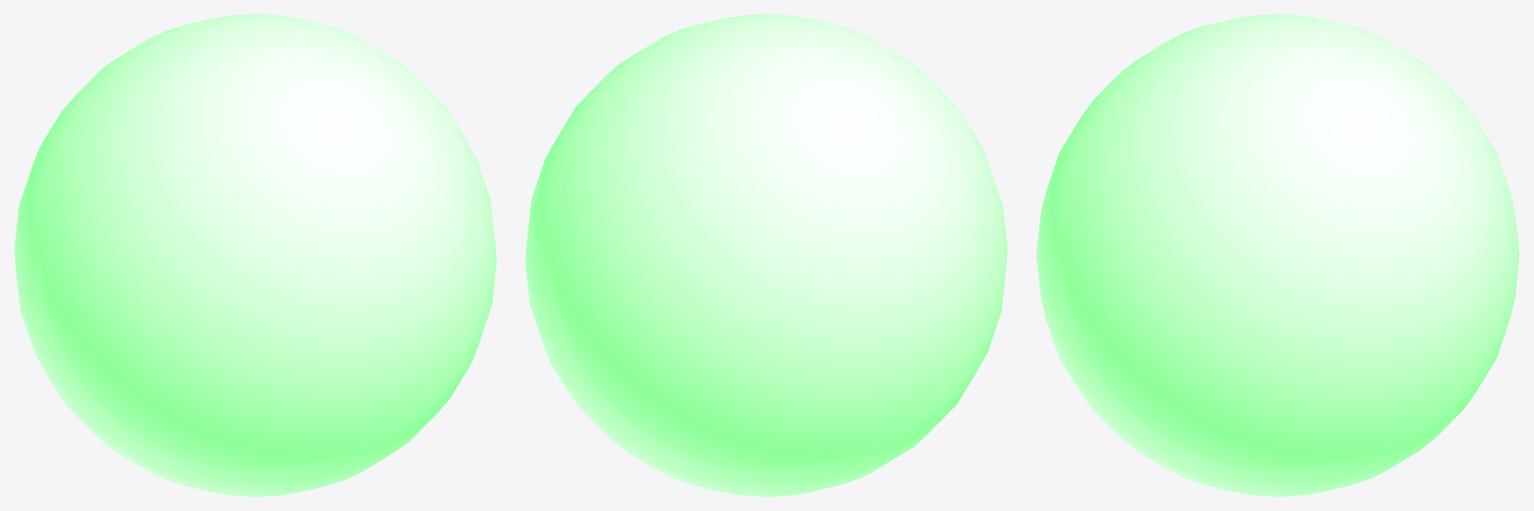
Rendered from orb-nature.glb.
The picture shows the model from 3 angles, left to right: view 1: azimuth 30°, elevation 25°; view 2: azimuth 150°, elevation 25°; view 3: azimuth 270°, elevation 25°; orthographic projection.
Visible parts, largest first — view 1: orb-nature; view 2: orb-nature; view 3: orb-nature.
Part boxes in pixels (x1,y1,x2,y2): orb-nature: [14, 14, 496, 496]; orb-nature: [525, 14, 1007, 496]; orb-nature: [1036, 14, 1519, 496].
Size of the model in its own units: 1.25 by 1.25 by 1.25.
